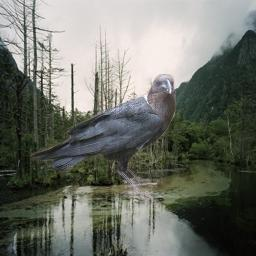Crow: (30, 74, 176, 205)
